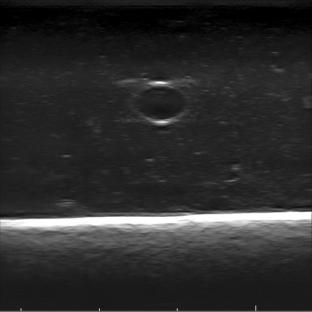vessel: (132, 80, 190, 125)
